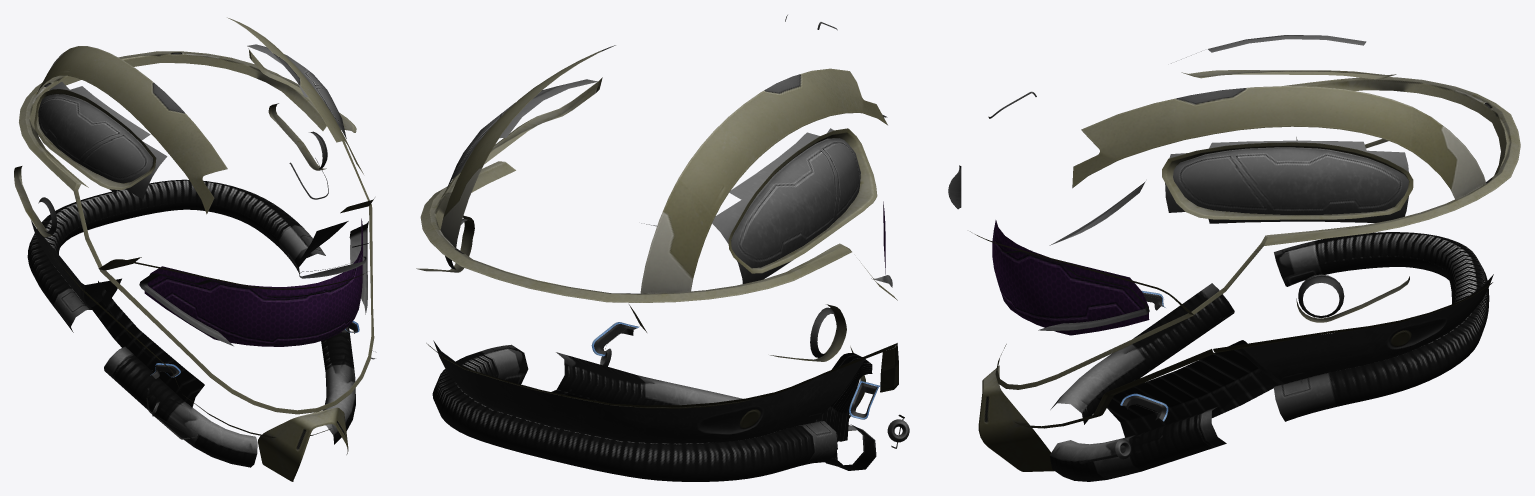
3 views of the same model, side by side, from view 1: azimuth 30°, elevation 25°; view 2: azimuth 150°, elevation 25°; view 3: azimuth 270°, elevation 25° (orthographic). The views are drawn at different scales.
Parts seen in each view (by area): view 1: Object_3; view 2: Object_3; view 3: Object_3.
Boxes of the visible parts, bbox=[...] form: Object_3: bbox=[14, 17, 376, 481]; Object_3: bbox=[416, 15, 909, 481]; Object_3: bbox=[948, 35, 1520, 481].
Bounding box in the file's own units: 0.3255 × 0.3724 × 0.4685.
1 material, 1 textured.
